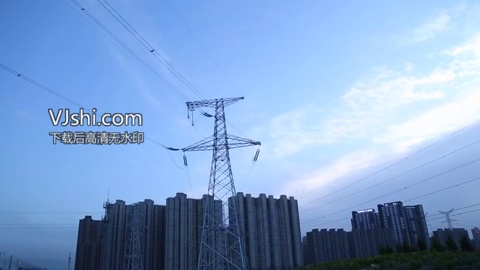tower_body: (174, 90, 262, 270)
tower_foot: (195, 240, 250, 270)
tower_head: (182, 95, 245, 113)
